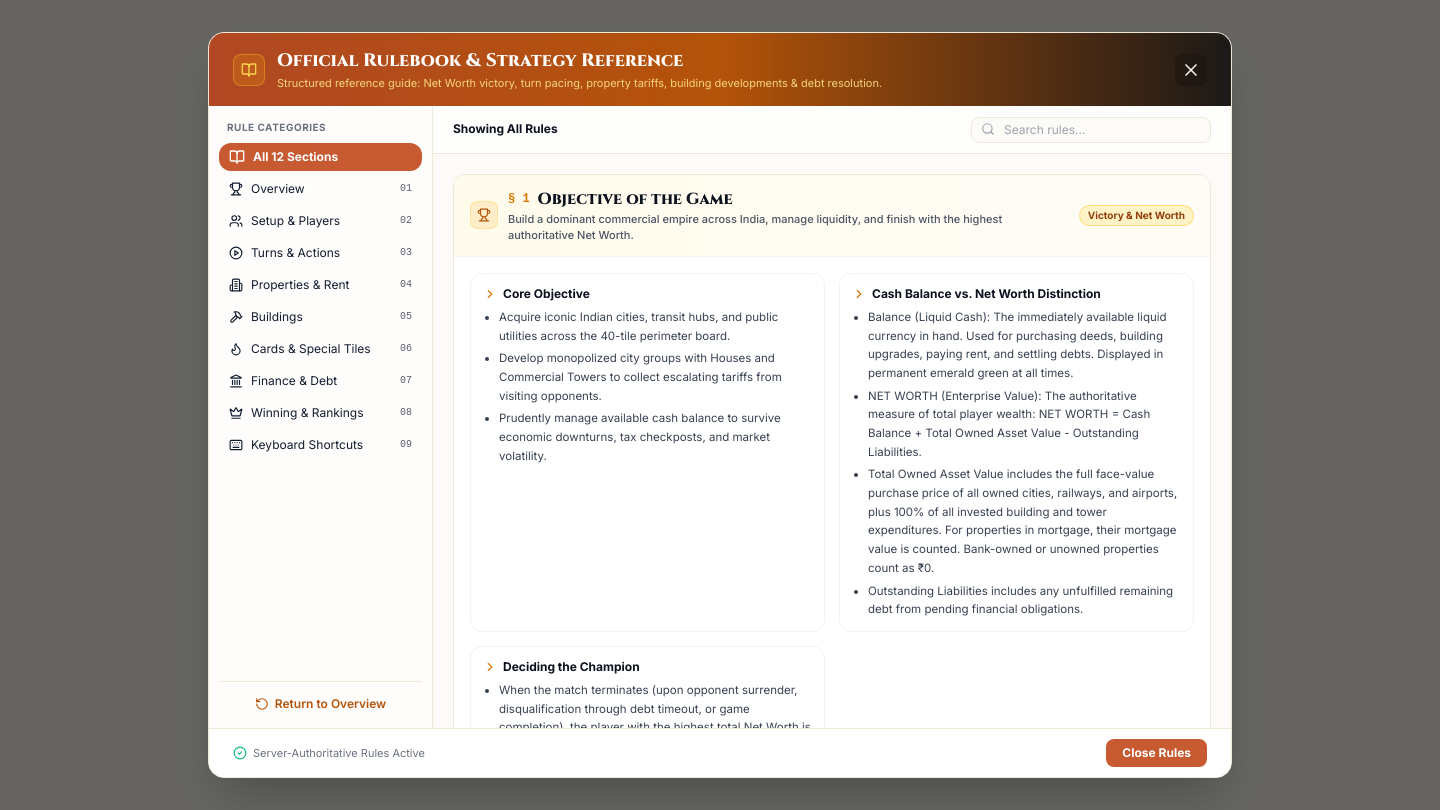
2. Rules Navigation & Structure (Requirement 3) › clicking a category navigation item filters content to that category
This screenshot has width=1440, height=810.
# Click Buildings category
Click the button with test id "nav-cat-buildings". click: (320, 317)
box: [219, 303, 422, 331]
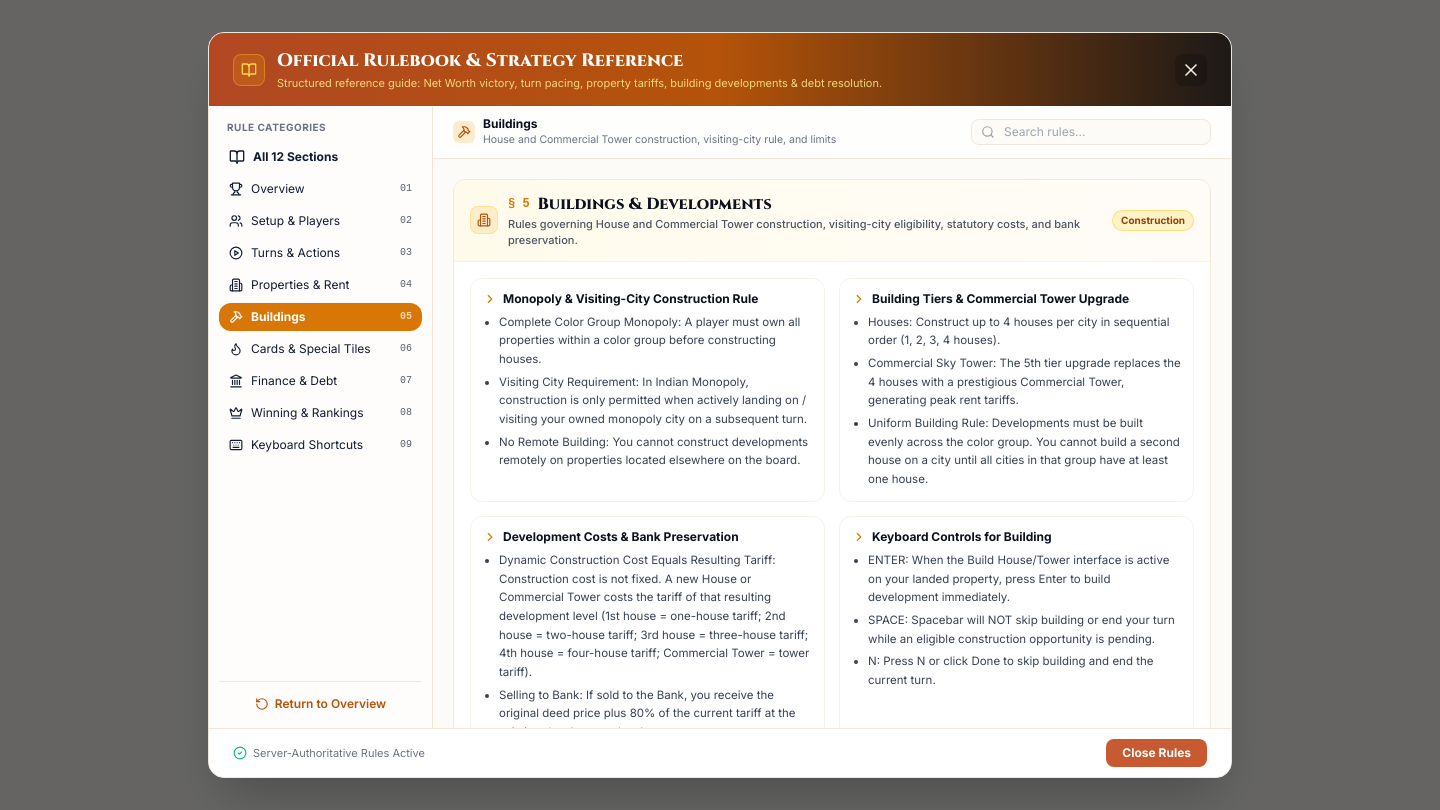
Check: the heading "Buildings & Developments" is shown, box [538, 192, 772, 216]
Check: the text "Monopoly & Visiting-City Construction Rule" is shown, box [503, 291, 758, 307]
# Click Keyboard Shortcuts category
Click the button with test id "nav-cat-keyboard-shortcuts". click: (320, 445)
box: [219, 431, 422, 459]
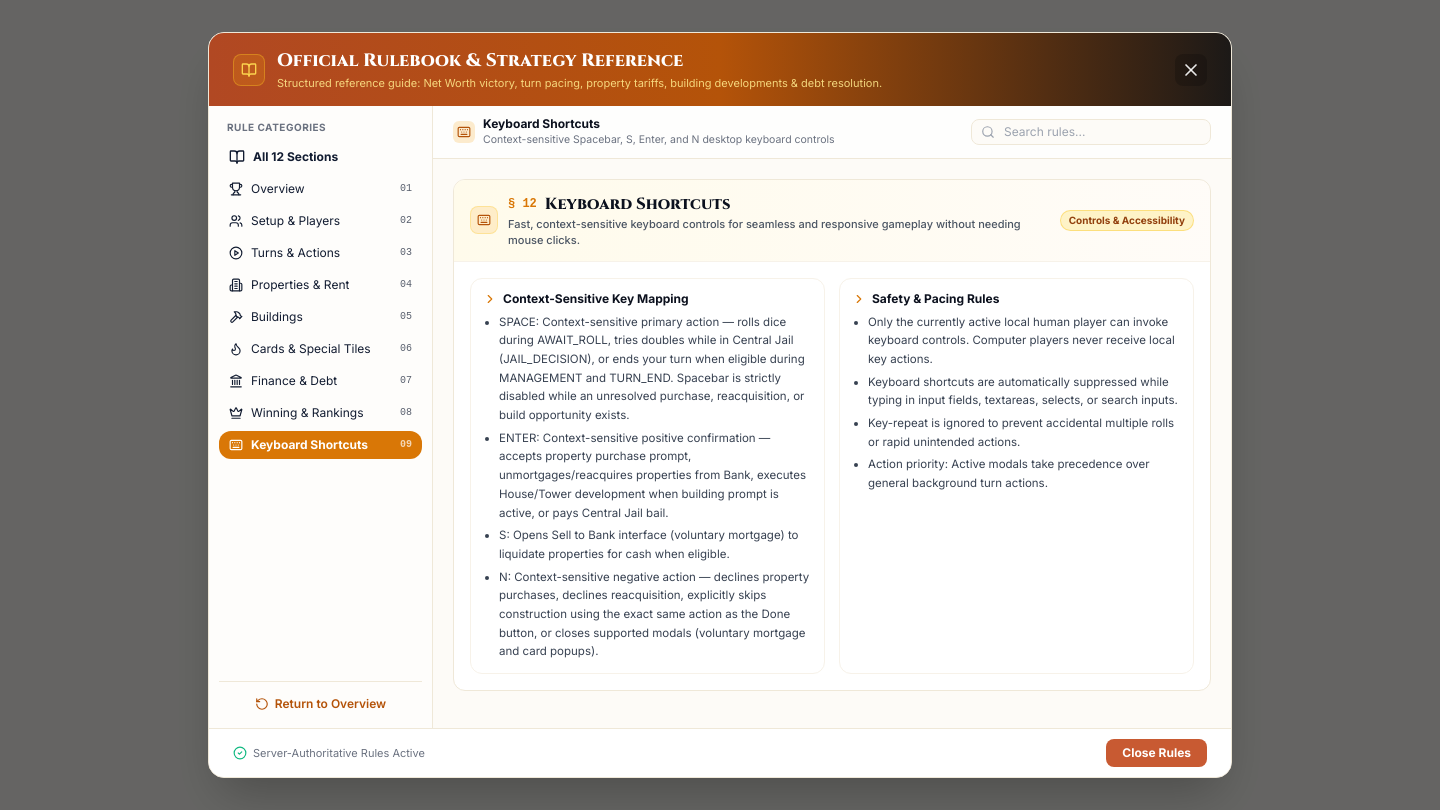
Check: the list item "executes House/Tower development" is shown, box [499, 431, 806, 520]
